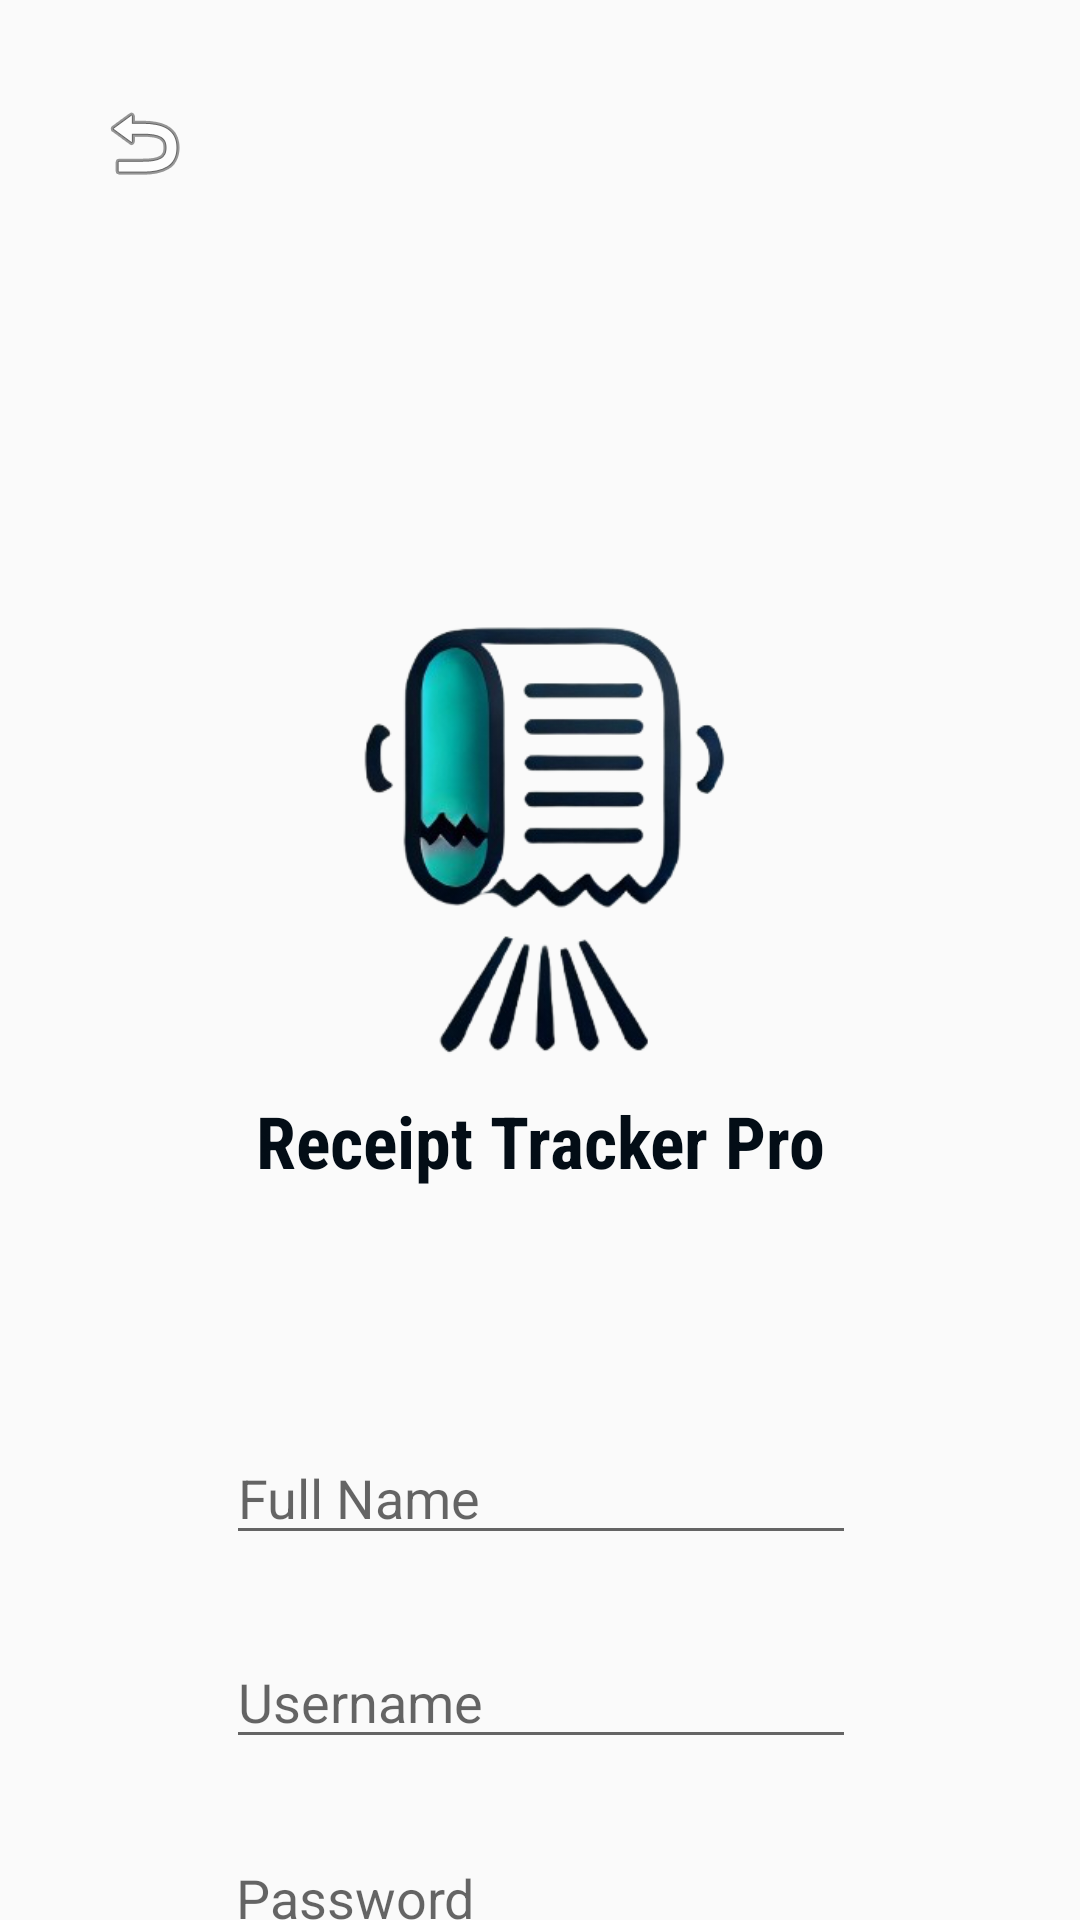

Where icons sit on this 1080 x 1920 app screen, as bbox(x1, y1, x2, y2):
revert: bbox(111, 112, 180, 175)
